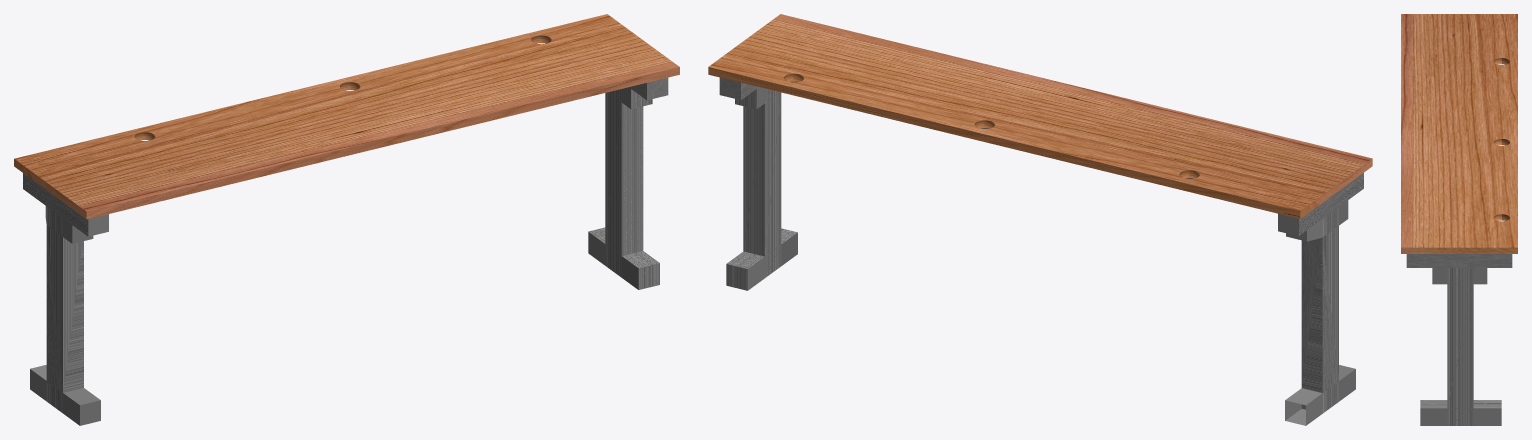
Rendered from mesa3H.obj.
3 renders of one model, left to right at view 1: azimuth 30°, elevation 25°; view 2: azimuth 150°, elevation 25°; view 3: azimuth 270°, elevation 25°, orthographic. The views are drawn at different scales.
Visible parts, largest first — view 1: Cube.002_Cube.001, Cube.001_Cube.004; view 2: Cube.002_Cube.001, Cube.001_Cube.004; view 3: Cube.002_Cube.001, Cube.001_Cube.004.
Part boxes in pixels (x1,y1,x2,y2): Cube.002_Cube.001: (14, 14, 679, 219); Cube.001_Cube.004: (23, 77, 668, 425); Cube.002_Cube.001: (708, 14, 1372, 218); Cube.001_Cube.004: (719, 77, 1363, 425); Cube.002_Cube.001: (1401, 14, 1517, 253); Cube.001_Cube.004: (1406, 254, 1512, 425).
Bounding box in the file's own units: 5.62 × 2.03 × 1.19.
Materials: 2 (2 with a texture image).
